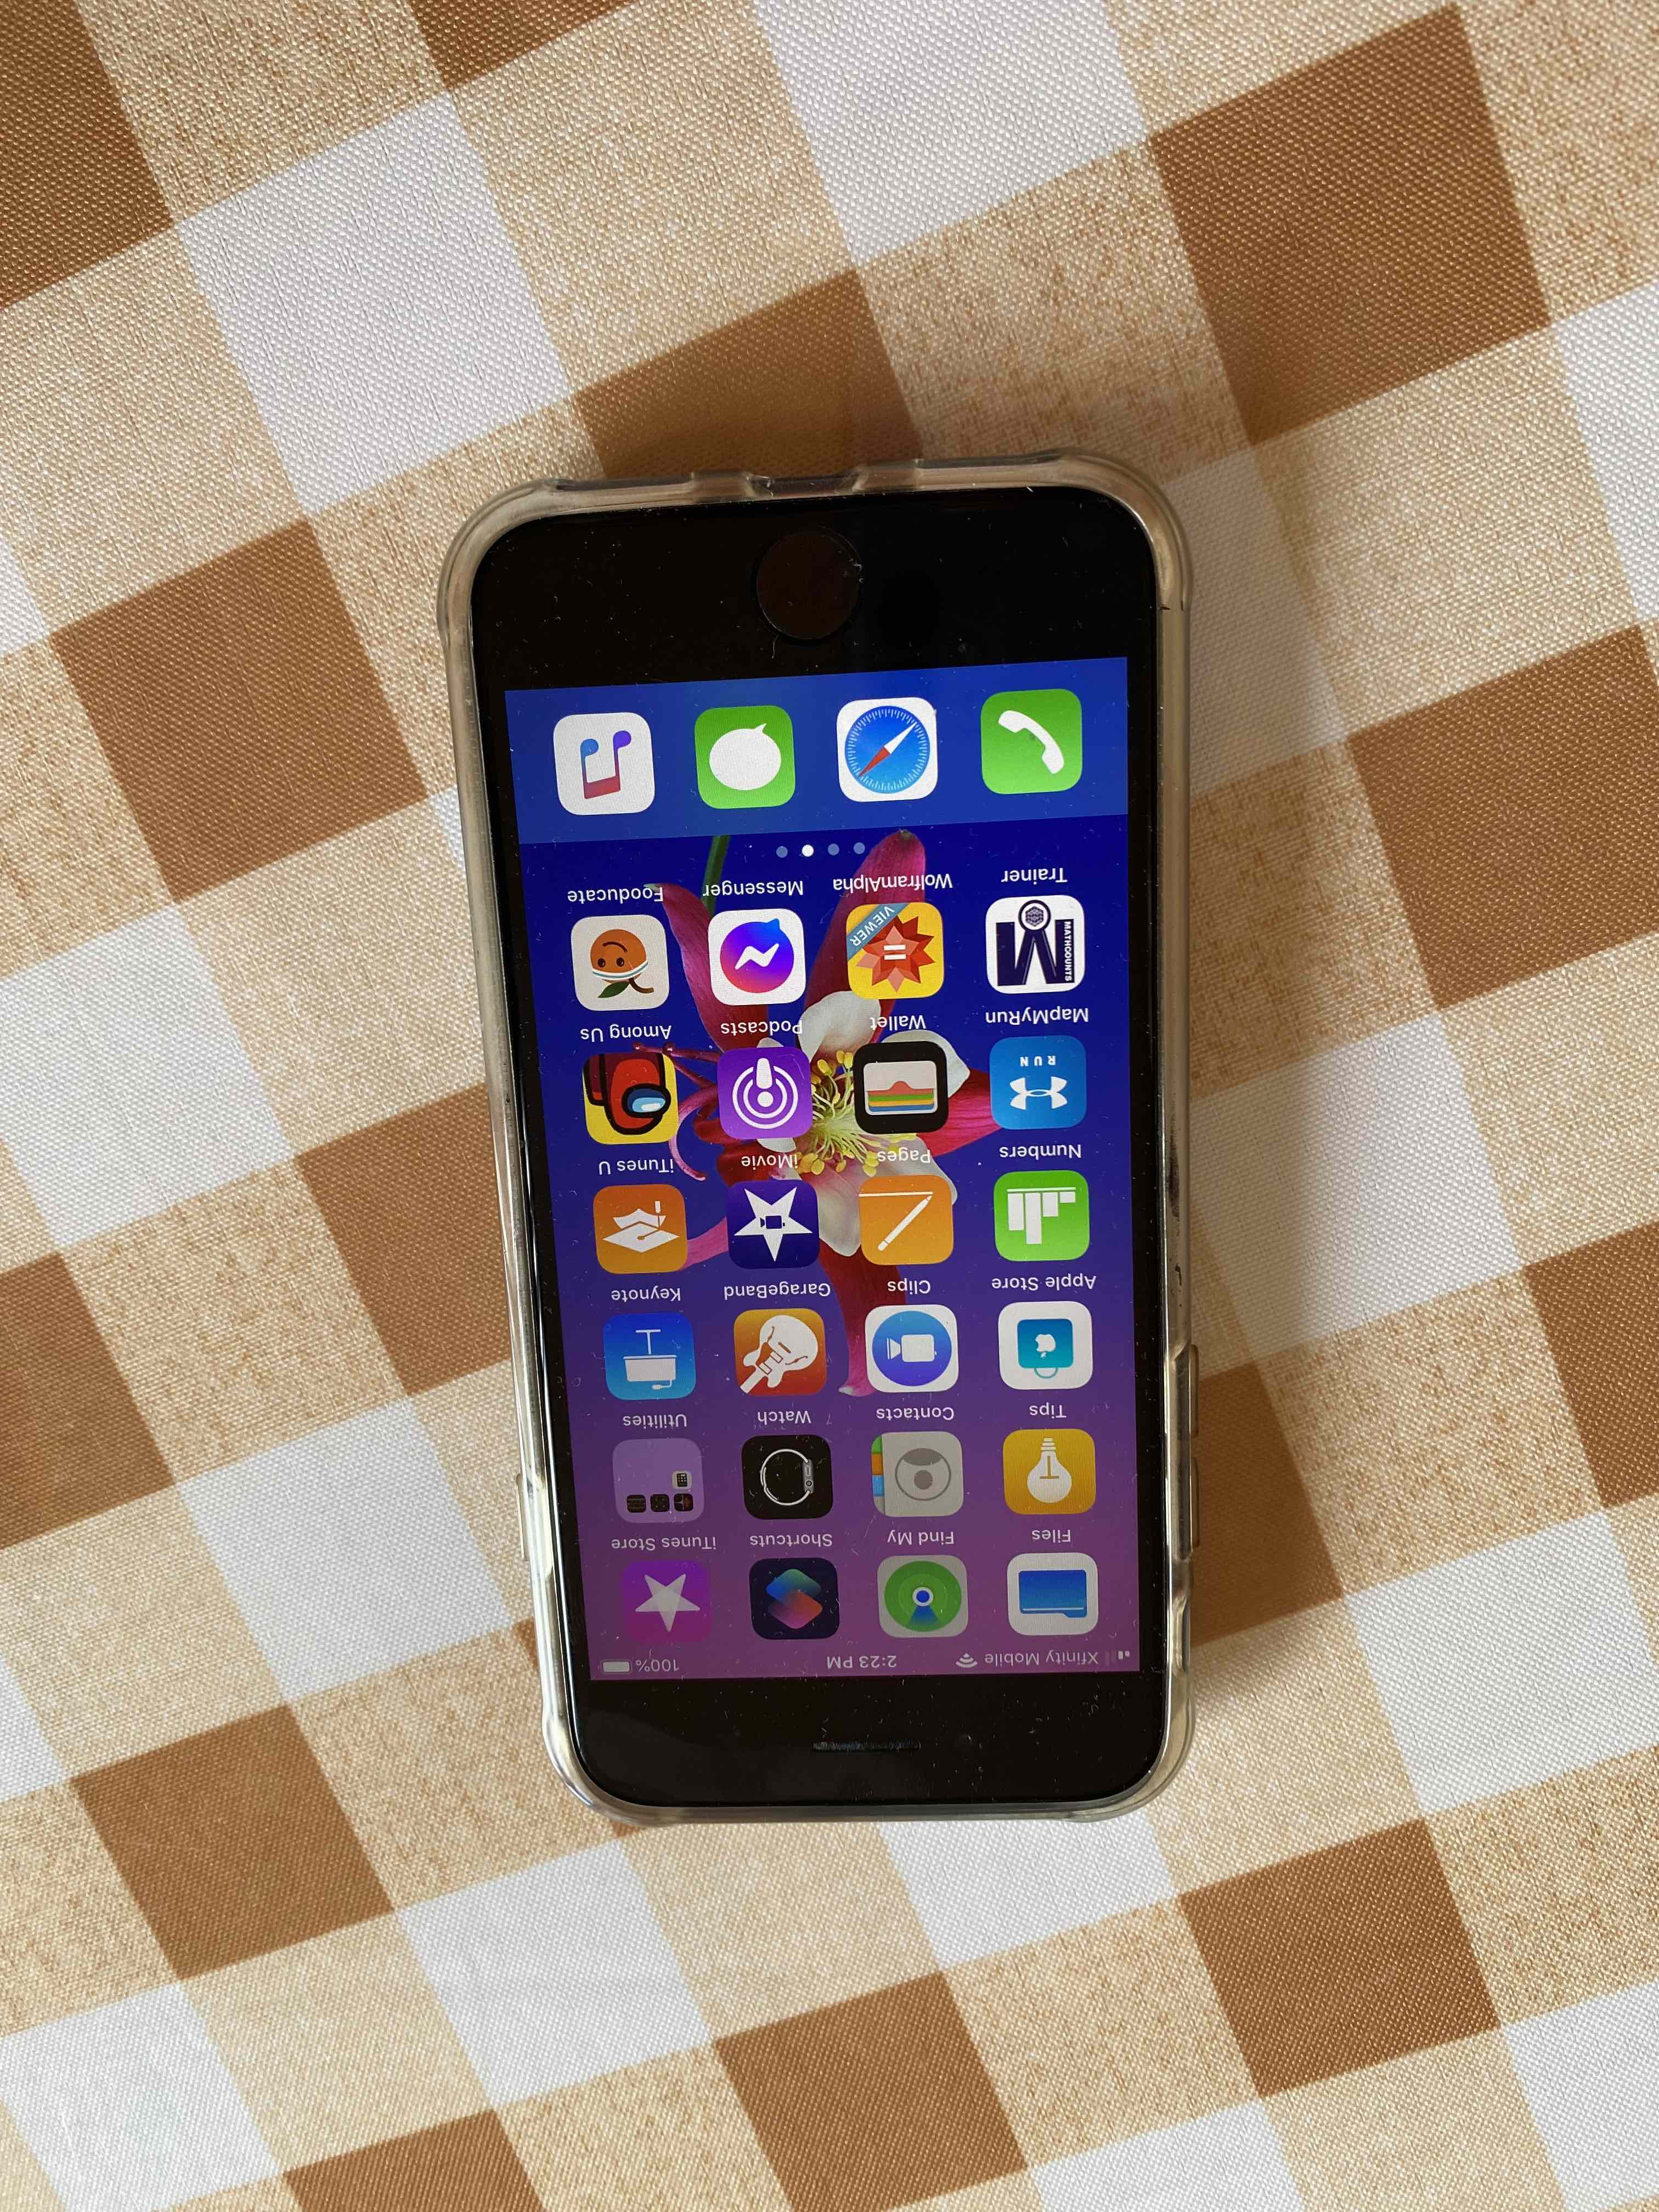Cell Phone: (439, 456, 1211, 1820)
